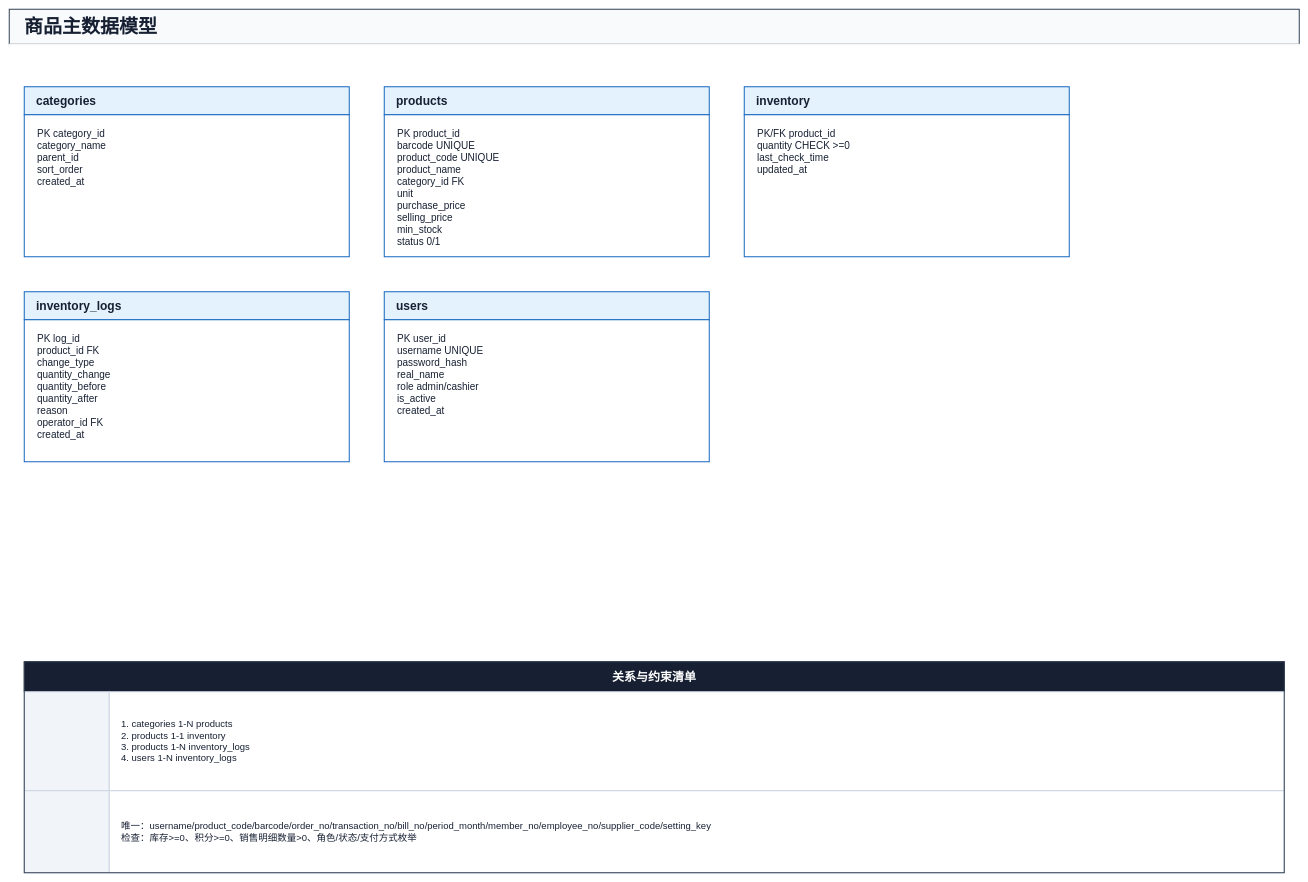
The diagram is 1308 pixels wide and 882 high, and some of its shapes have lost their labels. The shapes that lost their labels are listed below. From the top down, each one's centre as x and y in pixels, then its label:
(x=654, y=54): ER 模型｜表字段、主外键、唯一约束、关系清单
(x=67, y=741): 关系
(x=67, y=831): 约束
